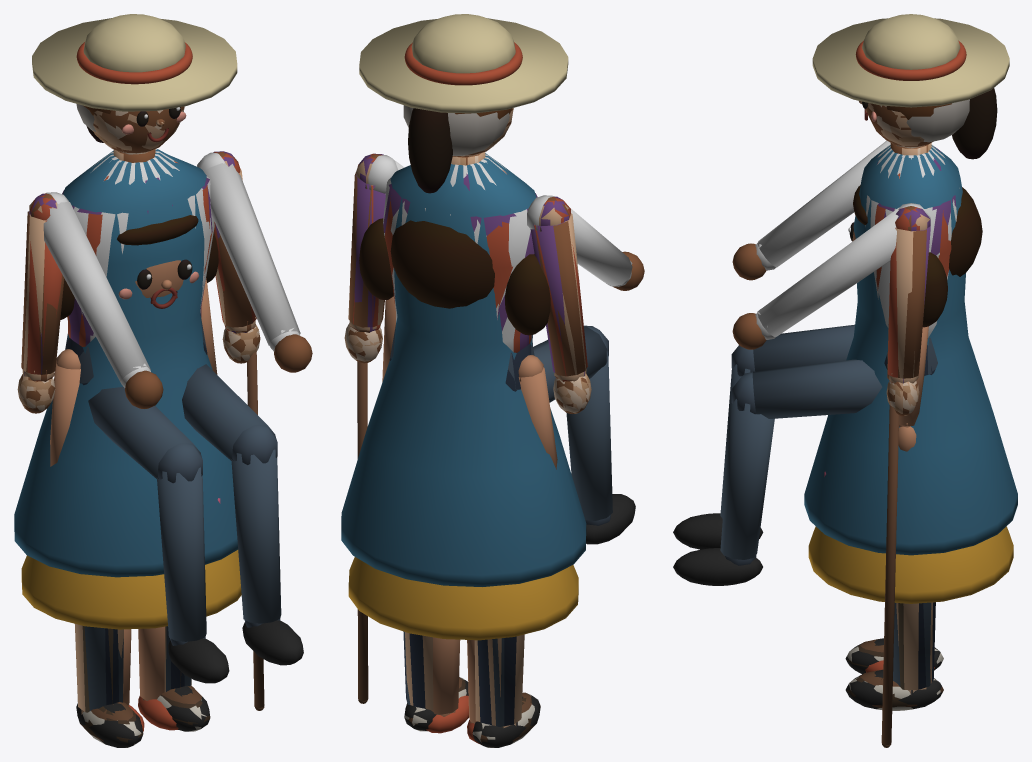
File: people.glb
3 views of the same model, side by side, from view 1: azimuth 30°, elevation 25°; view 2: azimuth 150°, elevation 25°; view 3: azimuth 270°, elevation 25° (orthographic). The views are drawn at different scales.
Visible parts, largest first — view 1: adult-0, rider, mira-body, adult-1, adult-2, adult-3, mira-arm-r; view 2: adult-0, mira-body, rider, adult-3, adult-2, adult-1, mira-arm-r; view 3: adult-0, rider, mira-body, adult-2, adult-1, adult-3, mira-arm-r.
Part boxes in pixels (x1,y1,x2,y2): adult-0: (14,14,259,741); rider: (43,107,312,683); mira-body: (21,215,241,732); adult-1: (18,106,260,747); adult-2: (19,104,264,742); adult-3: (18,108,258,747); mira-arm-r: (201,278,217,374); adult-0: (341,14,591,742); mira-body: (348,218,578,744); rider: (368,121,644,544); adult-3: (349,108,590,747); adult-2: (345,105,589,742); adult-1: (348,108,588,747); mira-arm-r: (382,296,395,381); adult-0: (804,14,1017,707); rider: (673,101,959,585); mira-body: (808,185,1013,672); adult-2: (846,99,969,747); adult-1: (845,101,956,709); adult-3: (847,88,997,710); mira-arm-r: (898,326,928,451).
Bounding box in the file's own units: 0.64 × 1.81 × 0.8401.
